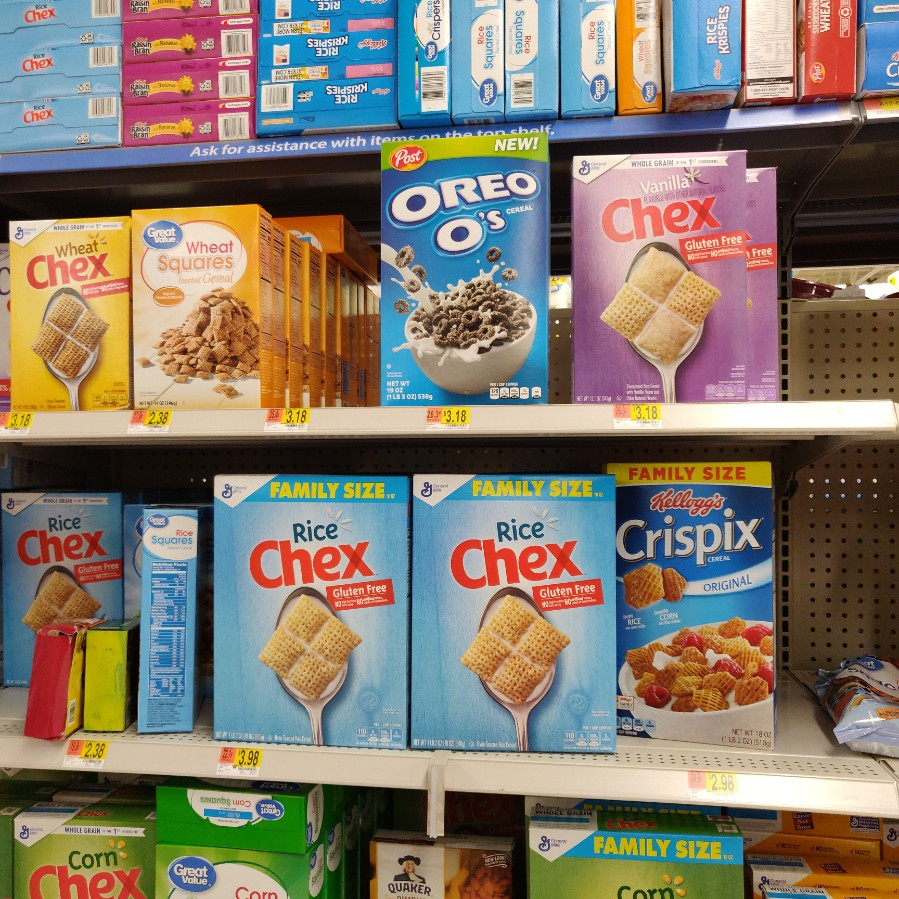Oreo-563424384: (381, 138, 554, 410)
